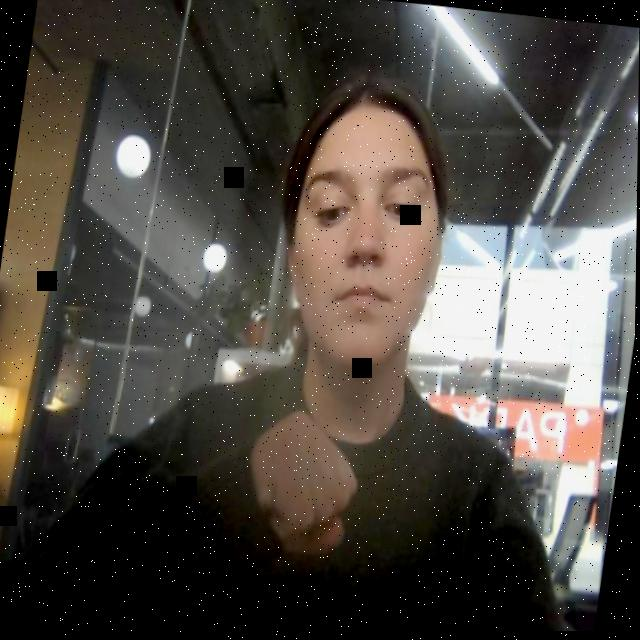Rock: (218, 399, 369, 562)
